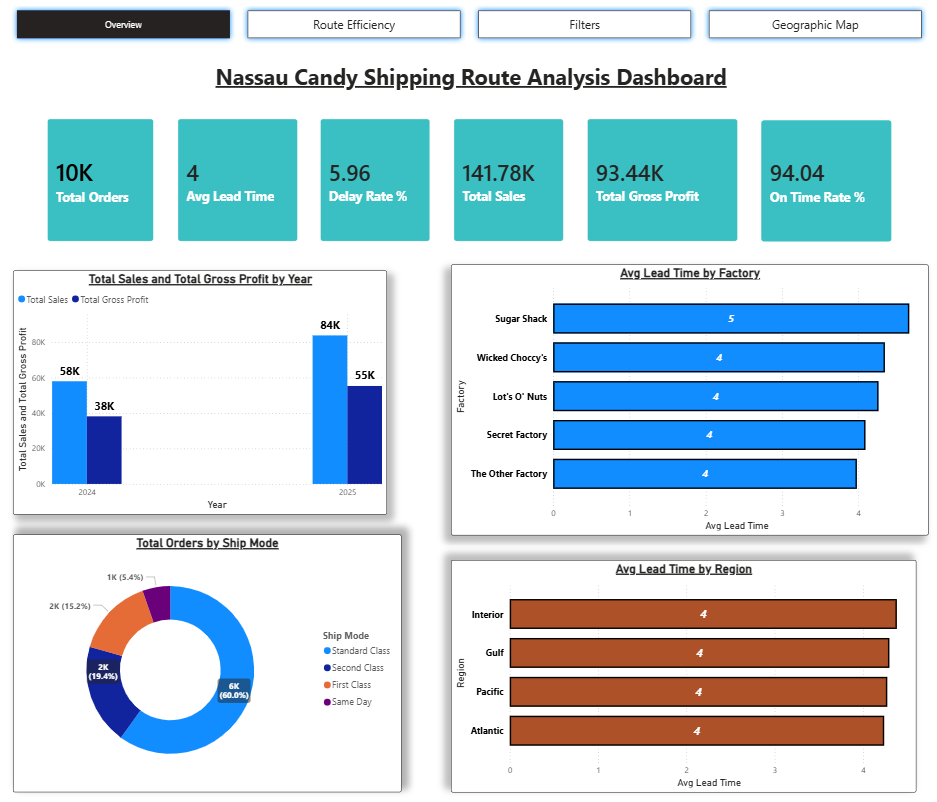

The dashboard page shown, as its layout file describes it:
{"tool":"powerbi","page":{"name":"Overview","canvas":[1400,1200],"ordinal":0},"visuals":[{"type":"cardVisual","fields":{"Data":["Nassau Candy Distributor.Total Orders"]},"box":[59.3,168.2,191.7,215],"z":0},{"type":"cardVisual","fields":{"Data":["Nassau Candy Distributor.Avg Lead Time"]},"box":[251,168.2,211.7,215],"z":1000},{"type":"cardVisual","fields":{"Data":["Nassau Candy Distributor.Delay Rate %"]},"box":[462.7,168.2,196.7,215],"z":2000},{"type":"cardVisual","fields":{"Data":["Nassau Candy Distributor.Total Sales"]},"box":[659.3,168.2,196.7,215],"z":3000},{"type":"cardVisual","fields":{"Data":["Nassau Candy Distributor.Total Gross Profit"]},"box":[856,168.2,256.7,215],"z":4000},{"type":"cardVisual","fields":{"Data":["Nassau Candy Distributor.On Time Rate %"]},"box":[1112.7,169.9,226.7,213.3],"z":5000},{"type":"clusteredColumnChart","fields":{"Category":["Nassau Candy Distributor.Order Date.Variation.Date Hierarchy.Year","Nassau Candy Distributor.Order Date.Variation.Date Hierarchy.Quarter","Nassau Candy Distributor.Order Date.Variation.Date Hierarchy.Month","Nassau Candy Distributor.Order Date.Variation.Date Hierarchy.Day"],"Y":["Nassau Candy Distributor.Total Sales","Nassau Candy Distributor.Total Gross Profit"]},"box":[25.7,410,551.4,360],"z":6000},{"type":"barChart","fields":{"Category":["Nassau Candy Distributor.Factory"],"Y":["Nassau Candy Distributor.Avg Lead Time"]},"box":[672.3,399.5,703.9,399.5],"z":7000},{"type":"donutChart","fields":{"Category":["Nassau Candy Distributor.Ship Mode"],"Y":["Nassau Candy Distributor.Total Orders"]},"box":[26.8,798.9,572.4,380],"z":8000},{"type":"barChart","fields":{"Category":["Nassau Candy Distributor.Region"],"Y":["Nassau Candy Distributor.Avg Lead Time"]},"box":[672.9,835.7,685.7,342.9],"z":9000},{"type":"textbox","box":[43.8,95,1315.3,65.8],"z":10000},{"type":"pageNavigator","box":[25,17.5,1350,57.5],"z":15000}]}

Visuals, with their boxes in screenshot pixels (x1, y1, x2, y2), scaled from the page's 1400x1200 canvas onto the 937x802 screenshot:
cardVisual - Nassau Candy Distributor.Total Orders: pyautogui.locateOnScreen(40, 112, 168, 256)
cardVisual - Nassau Candy Distributor.Avg Lead Time: pyautogui.locateOnScreen(168, 112, 310, 256)
cardVisual - Nassau Candy Distributor.Delay Rate %: pyautogui.locateOnScreen(310, 112, 441, 256)
cardVisual - Nassau Candy Distributor.Total Sales: pyautogui.locateOnScreen(441, 112, 573, 256)
cardVisual - Nassau Candy Distributor.Total Gross Profit: pyautogui.locateOnScreen(573, 112, 745, 256)
cardVisual - Nassau Candy Distributor.On Time Rate %: pyautogui.locateOnScreen(745, 114, 896, 256)
clusteredColumnChart - Nassau Candy Distributor.Order Date.Variation.Date Hierarchy.Year x Nassau Candy Distributor.Order Date.Variation.Date Hierarchy.Quarter: pyautogui.locateOnScreen(17, 274, 386, 515)
barChart - Nassau Candy Distributor.Factory x Nassau Candy Distributor.Avg Lead Time: pyautogui.locateOnScreen(450, 267, 921, 534)
donutChart - Nassau Candy Distributor.Ship Mode x Nassau Candy Distributor.Total Orders: pyautogui.locateOnScreen(18, 534, 401, 788)
barChart - Nassau Candy Distributor.Region x Nassau Candy Distributor.Avg Lead Time: pyautogui.locateOnScreen(450, 559, 909, 788)
textbox: pyautogui.locateOnScreen(29, 63, 910, 107)
pageNavigator: pyautogui.locateOnScreen(17, 12, 920, 50)
